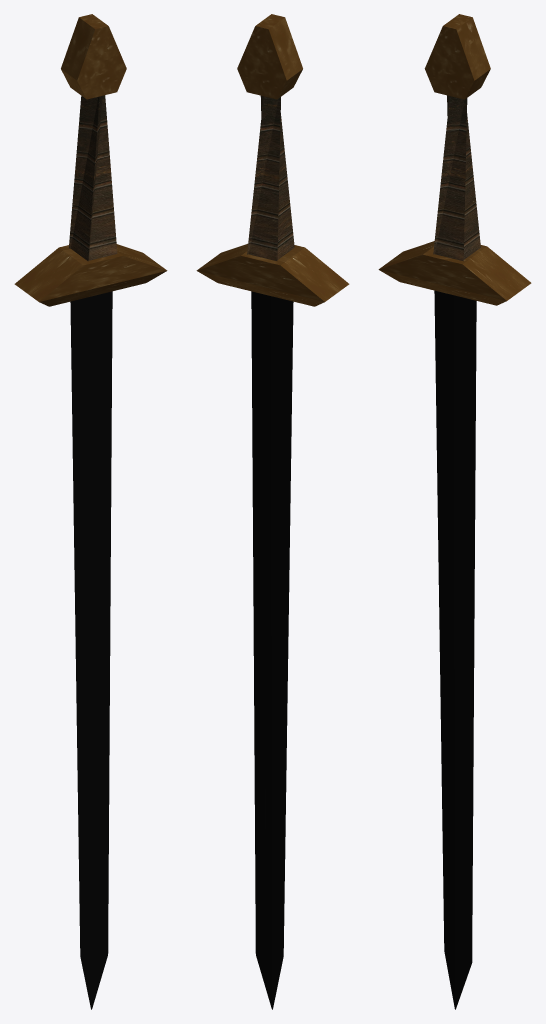
Rendered from DaggerTransparent1.fbx.
3 renders of one model, left to right at view 1: azimuth 30°, elevation 25°; view 2: azimuth 150°, elevation 25°; view 3: azimuth 330°, elevation 25°, orthographic.
Parts seen in each view (by area): view 1: Mesh1; view 2: Mesh1; view 3: Mesh1.
Boxes of the visible parts, left/top/right/bottom form: Mesh1: left=14, top=14, right=167, bottom=1009; Mesh1: left=196, top=14, right=349, bottom=1009; Mesh1: left=378, top=14, right=531, bottom=1009.
Size of the model in its own units: 2.59 by 18.99 by 0.8565.
